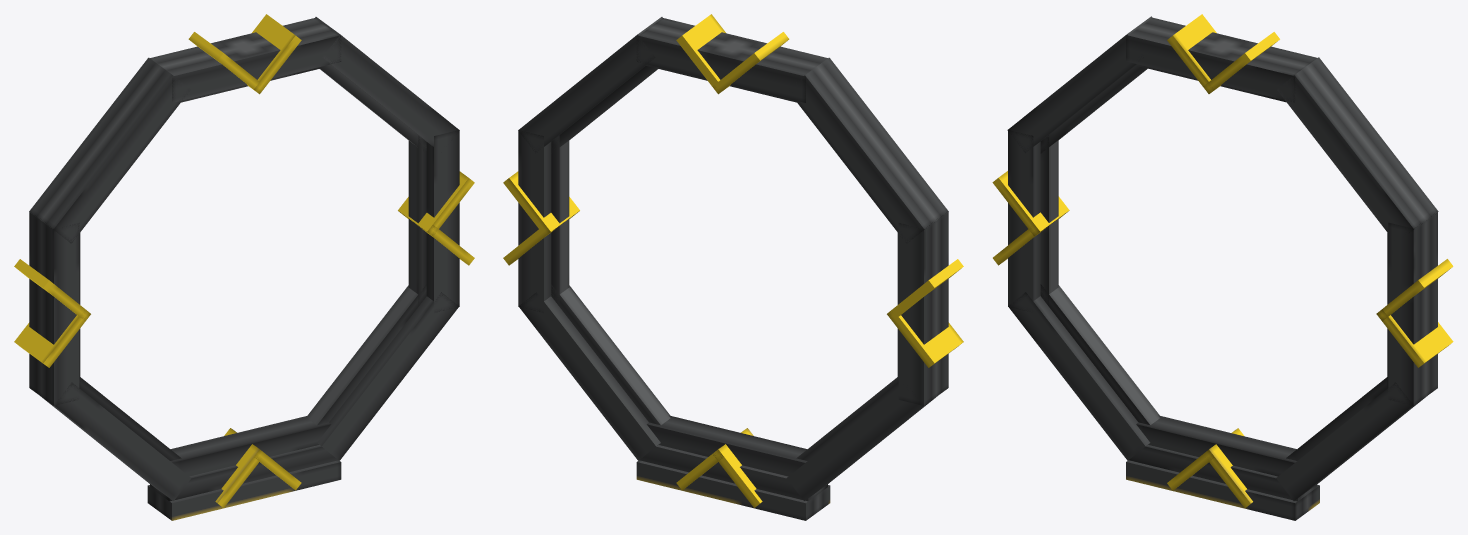
Rendered from radiant_portal.obj.
3 renders of one model, left to right at view 1: azimuth 30°, elevation 25°; view 2: azimuth 150°, elevation 25°; view 3: azimuth 330°, elevation 25°, orthographic.
Visible parts, largest first — view 1: cube; view 2: cube; view 3: cube.
Part boxes in pixels (box(x1,y1,x2,y2)): cube: box(14, 14, 474, 520); cube: box(503, 14, 963, 520); cube: box(992, 14, 1453, 520).
Bounding box in the file's own units: 3.19 × 3.23 × 0.375.
